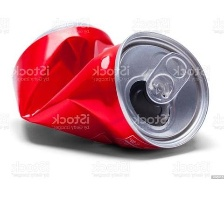can: (6, 19, 214, 156)
